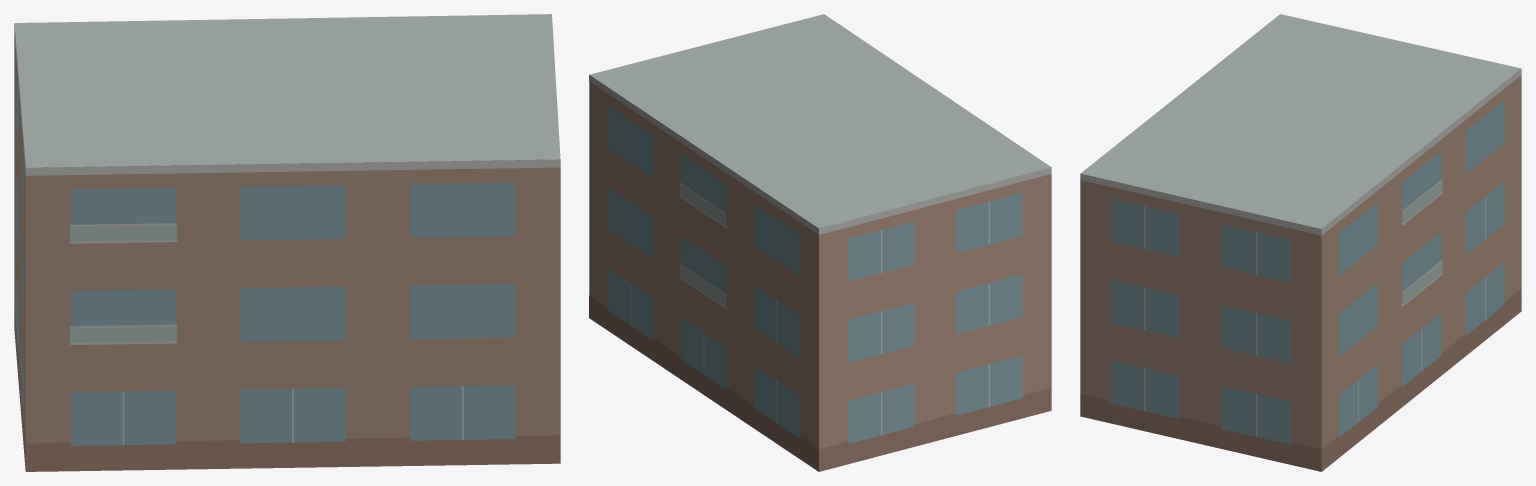
The model's file is survey-upis-32684274.glb.
The picture shows the model from 3 angles, left to right: view 1: azimuth 30°, elevation 25°; view 2: azimuth 150°, elevation 25°; view 3: azimuth 270°, elevation 25°; orthographic projection. The views are drawn at different scales.
Parts seen in each view (by area): view 1: survey-upis-32684274.tmp; view 2: survey-upis-32684274.tmp; view 3: survey-upis-32684274.tmp.
Part boxes in pixels (left/top/right/bottom): survey-upis-32684274.tmp: left=14, top=14, right=560, bottom=471; survey-upis-32684274.tmp: left=589, top=14, right=1051, bottom=471; survey-upis-32684274.tmp: left=1080, top=14, right=1521, bottom=471.
Size of the model in its own units: 17.39 by 9.15 by 15.08.
